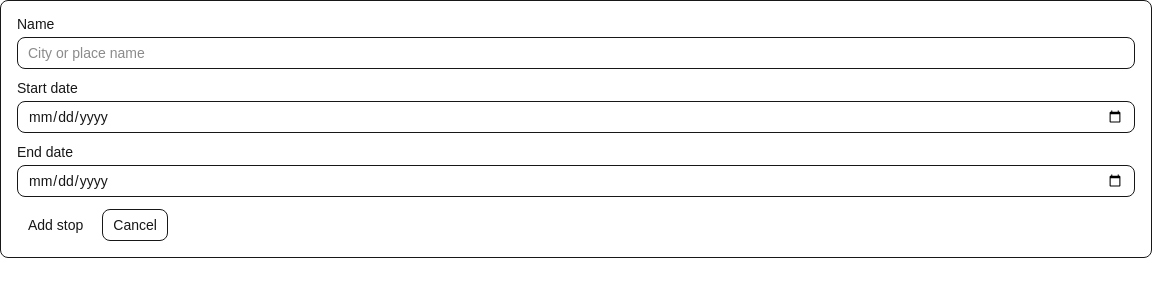
Test: AddStopFormView — date validation › shows date order error when end date is before start date
This screenshot has width=1152, height=301.
Type "Vienna" into the field labelled "Name" at (576, 53), box [17, 37, 1135, 69]
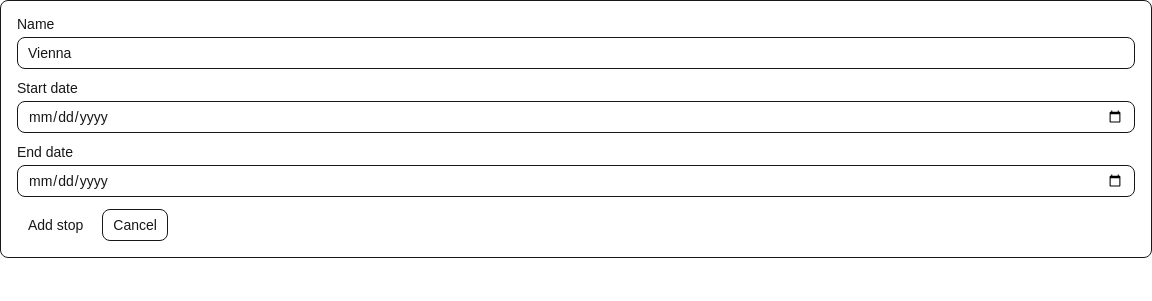
Type "2025-07-10" into the date field labelled "Start date" at (576, 117), box [17, 101, 1135, 133]
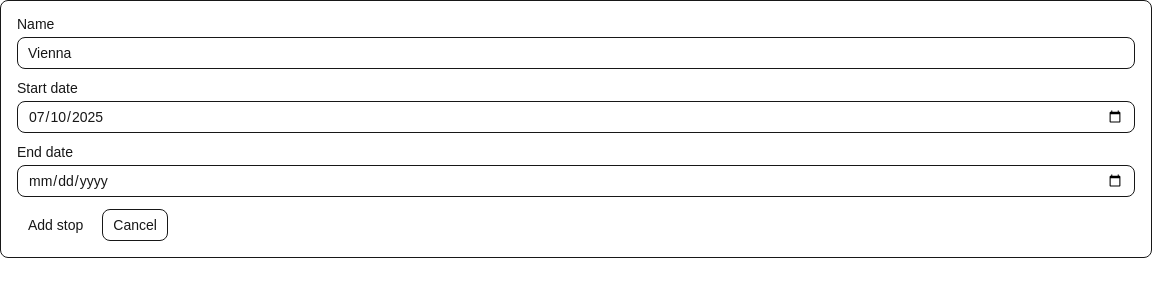
Type "2025-07-01" into the date field labelled "End date" at (576, 181), box [17, 165, 1135, 197]
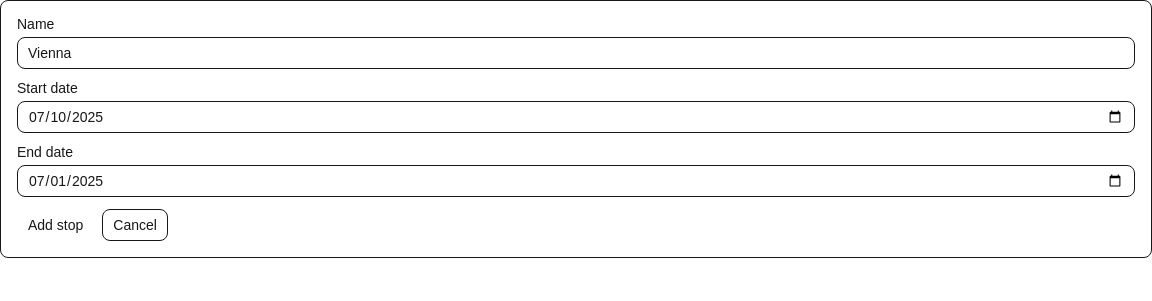
Click the button "Add stop" at (56, 225), box [17, 209, 94, 241]
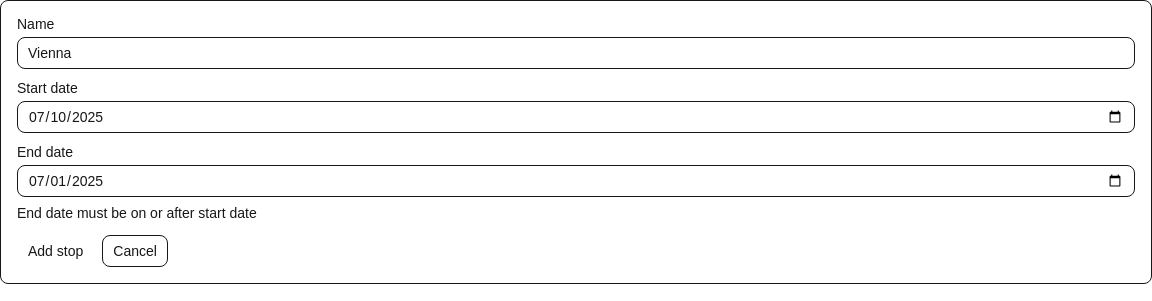
Check: the text "End date must be on or after start date" is shown, box [17, 205, 257, 221]
